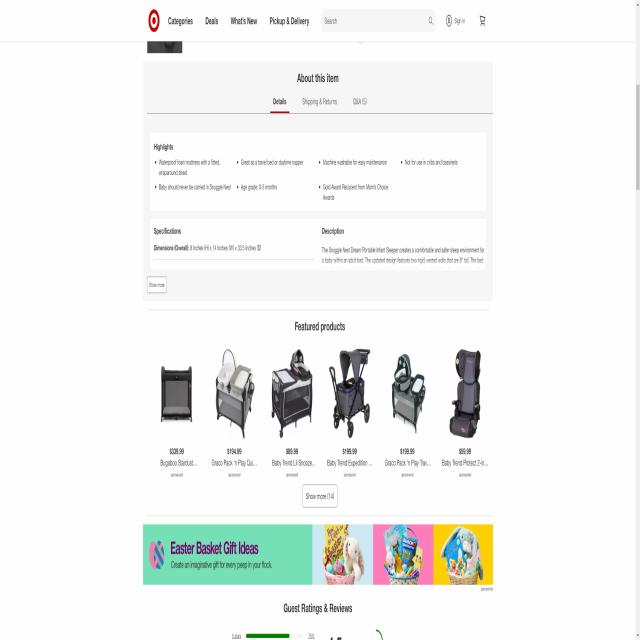menu-bar: (446, 8, 488, 37)
search: (320, 7, 438, 37)
tab-bar: (145, 6, 311, 36), (268, 88, 372, 115)
